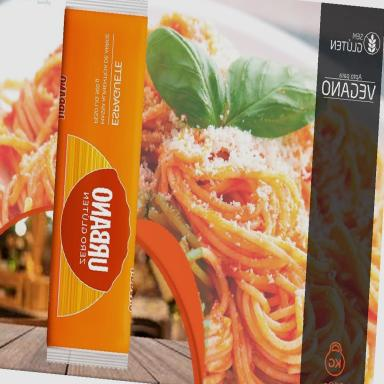pasta package: (47, 0, 147, 369)
